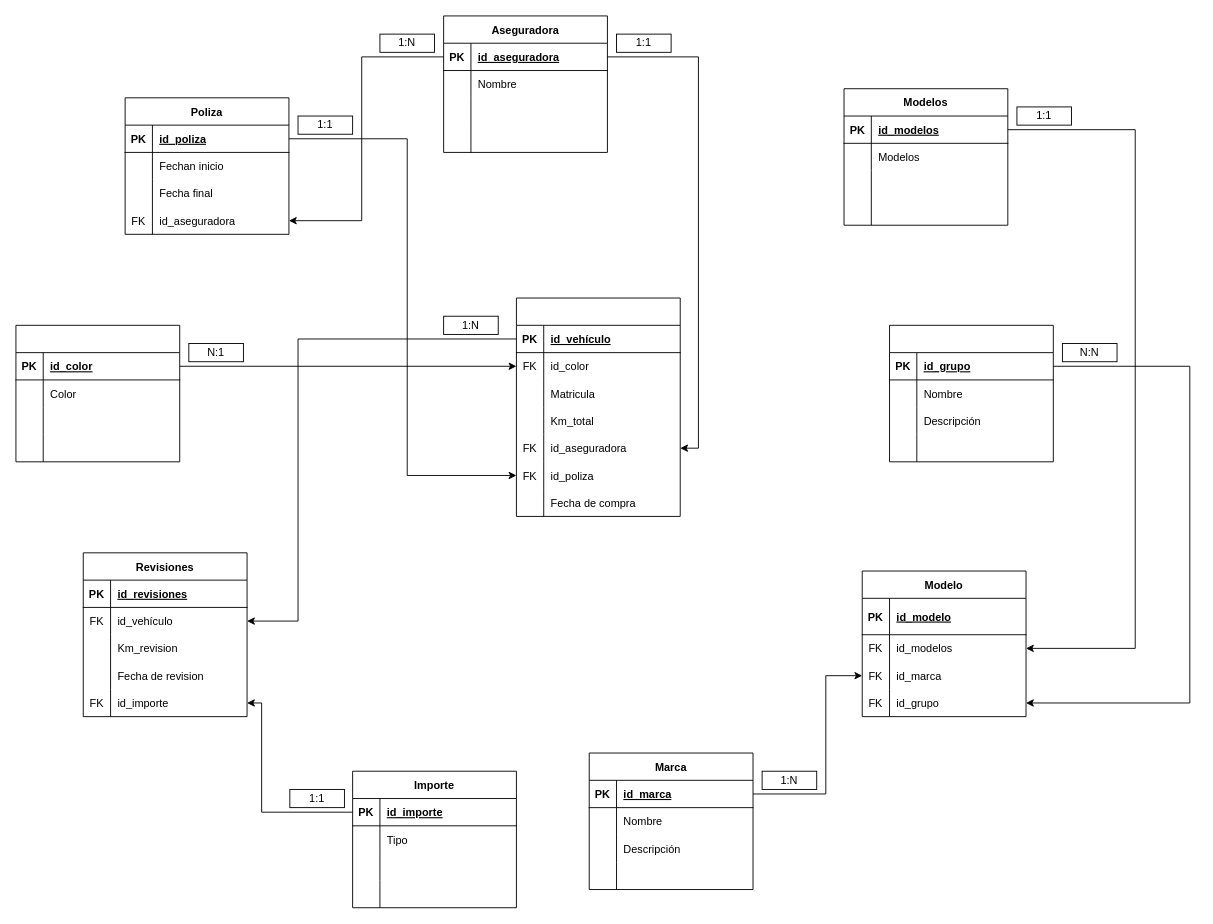
The diagram is 1213 pixels wide and 924 high, and some of its shapes have lost their labels. Each missing label, with the box of its shape:
Colores: (15, 324, 180, 462)
Grupo empresarial: (889, 324, 1053, 462)
Vehículos: (516, 297, 680, 516)
